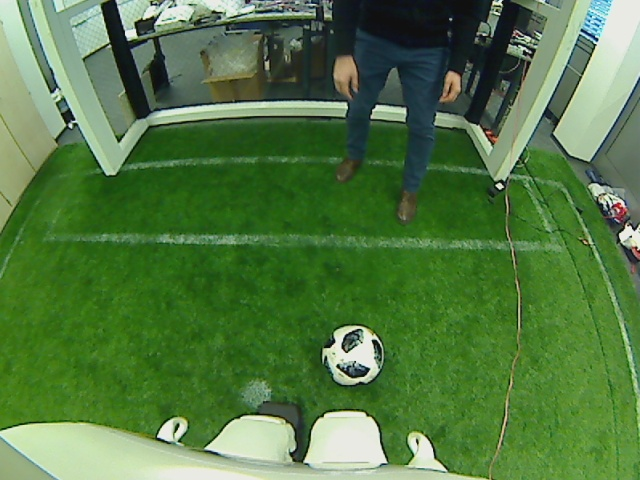ball: (320, 325, 384, 387)
